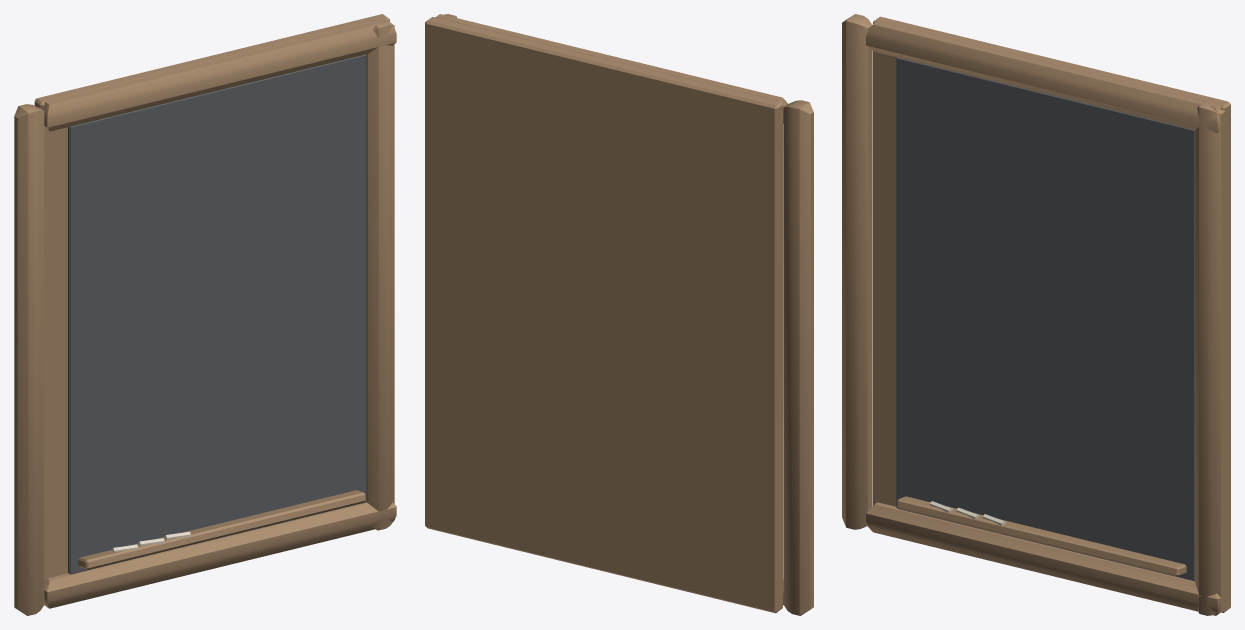
Rendered from bar-pub-and-brewery-taproom-chalkboard-menu-frame-938fc739__18418.glb.
The picture shows the model from 3 angles, left to right: view 1: azimuth 30°, elevation 25°; view 2: azimuth 150°, elevation 25°; view 3: azimuth 330°, elevation 25°; orthographic projection.
Visible parts, largest first — view 1: chalkboard-menu-frame; view 2: chalkboard-menu-frame; view 3: chalkboard-menu-frame.
Part boxes in pixels (<box>): chalkboard-menu-frame: <box>14,14,396,615</box>; chalkboard-menu-frame: <box>425,14,813,615</box>; chalkboard-menu-frame: <box>842,14,1230,615</box>.
Bounding box in the file's own units: 0.86 × 1.1 × 0.0737.
